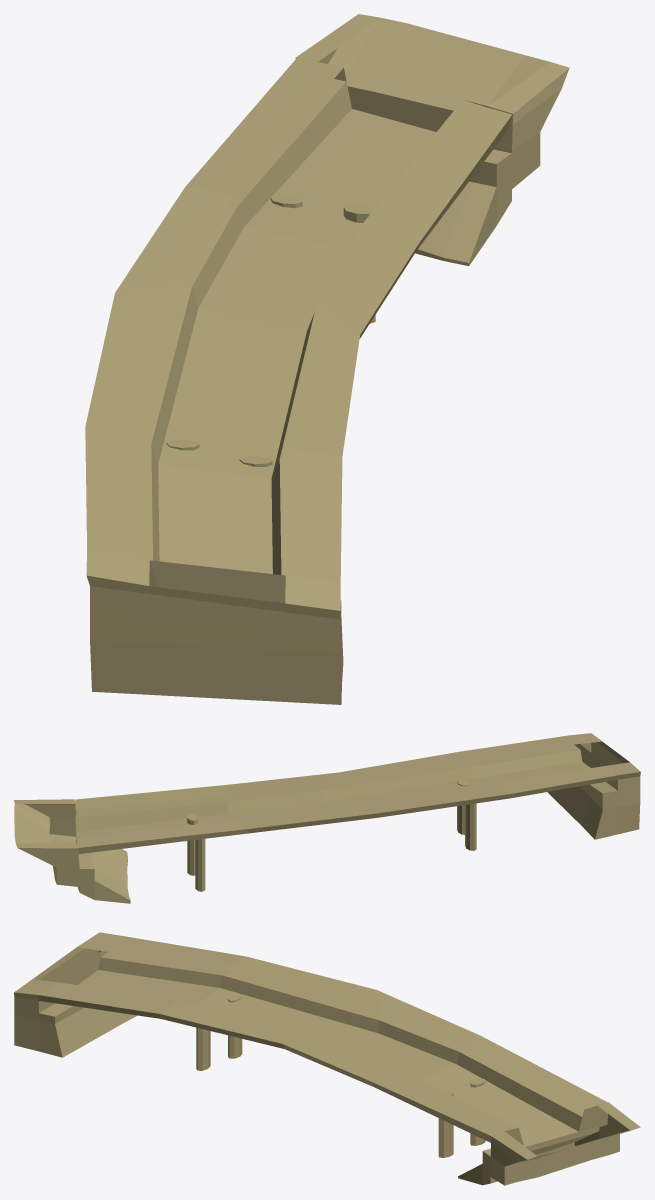
File: bridge_holder2.fbx
3 views of the same model, one above another, from view 1: azimuth 30°, elevation 25°; view 2: azimuth 150°, elevation 25°; view 3: azimuth 270°, elevation 25° (orthographic). The views are drawn at different scales.
Visible parts, largest first — view 1: bridge_holder2; view 2: bridge_holder2; view 3: bridge_holder2.
Part boxes in pixels (x1,y1,x2,y2): bridge_holder2: (85, 14, 569, 704); bridge_holder2: (14, 733, 640, 903); bridge_holder2: (14, 932, 640, 1185).
Size of the model in its own units: 5808 by 5157 by 844.
